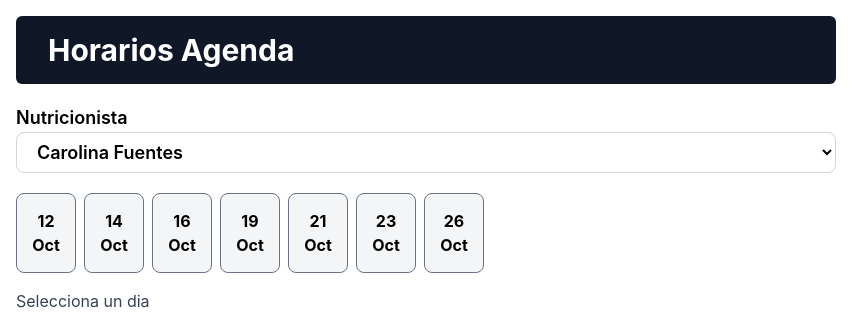
Test: SecretarioHorario › muestra las reservas o el mensaje "No hay citas" al hacer clic en un día del calendario
The width and height of the screenshot is (852, 328).
Click the button "12 Oct" at (46, 233), box [16, 193, 76, 273]
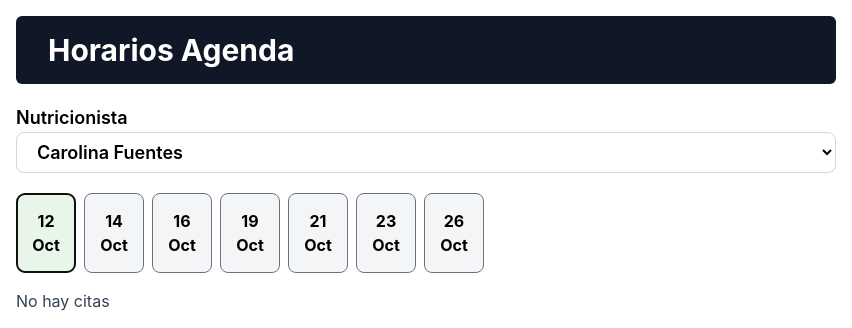
Check: the text "Selecciona un dia" is gone
Check: the text "No hay citas" is shown, box [16, 291, 110, 311]
